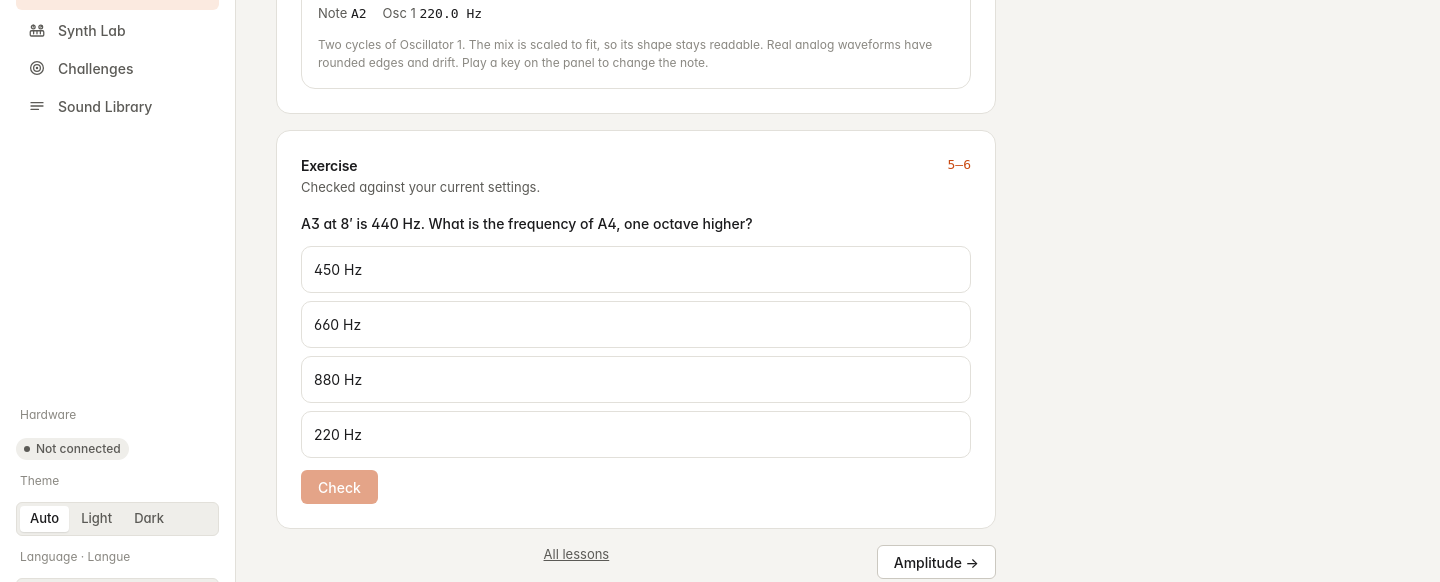
Test case: lesson player › gives per-option feedback on multiple choice
(page scrolled)
Step 1. Click the radio button labelled "660 Hz" → (338, 325), box [301,301,971,348]
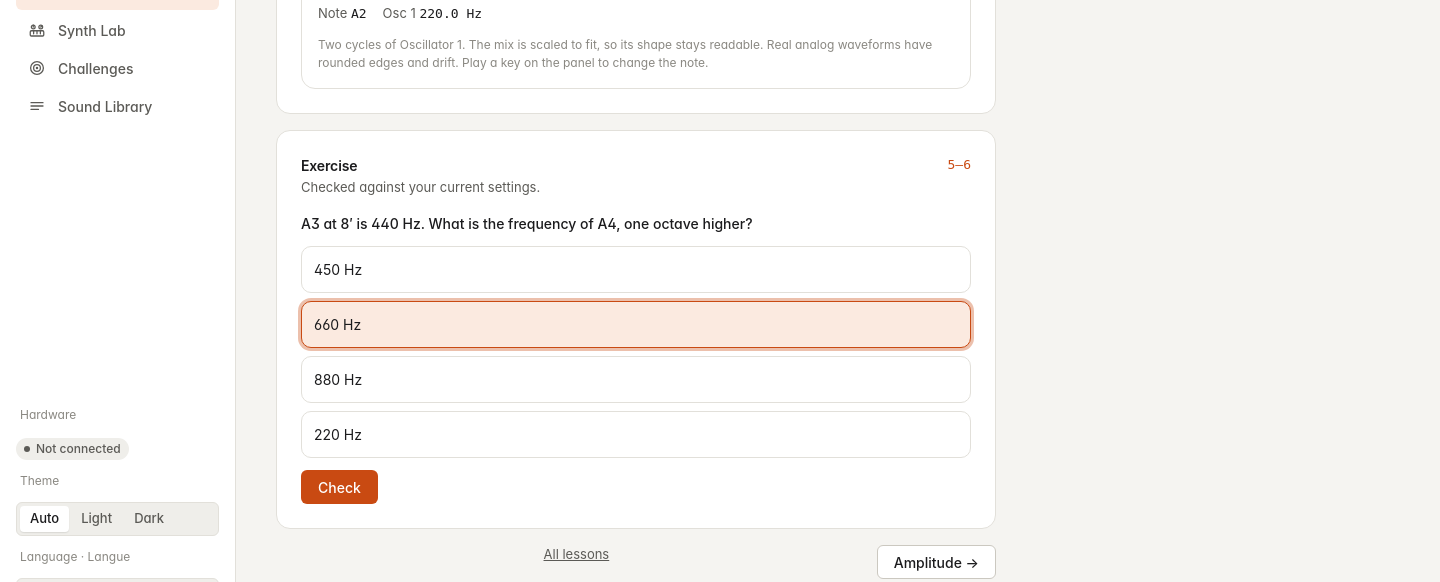
Step 2. Click the button "Check" → (339, 487), box [301,470,378,504]
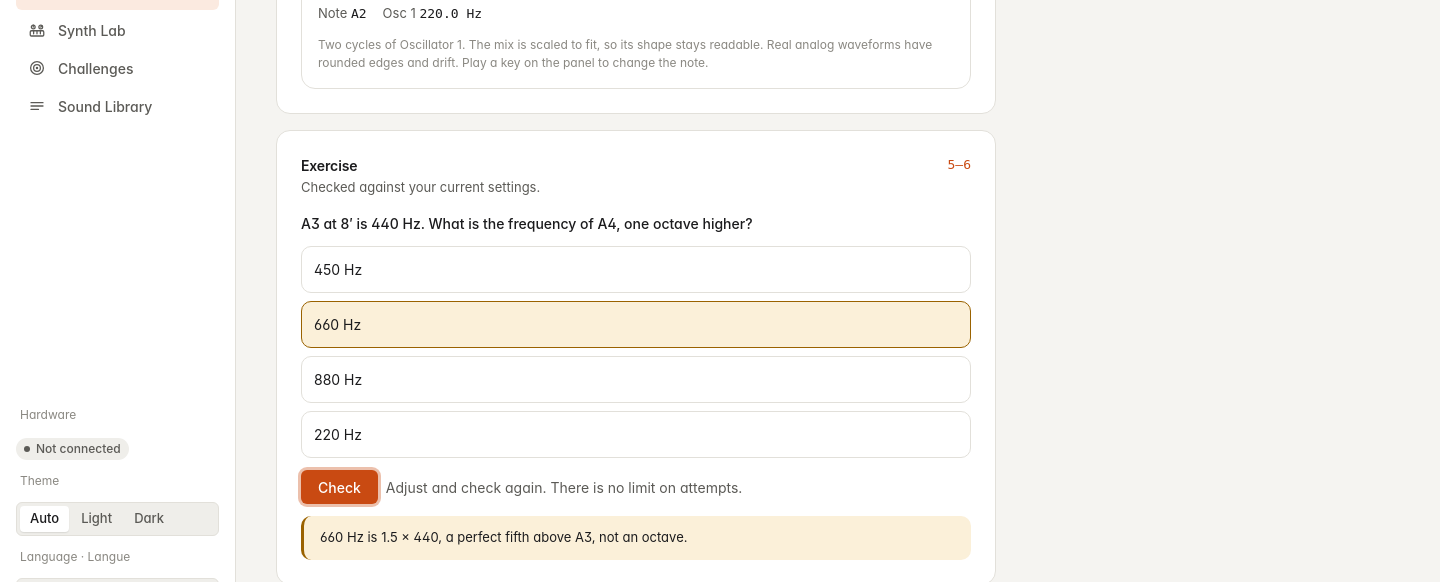
expect the message named "Exercise feedback" shows "perfect fifth": met, box [320,529,688,545]
Step 3. Click the radio button labelled "880 Hz" → (338, 380), box [301,356,971,403]
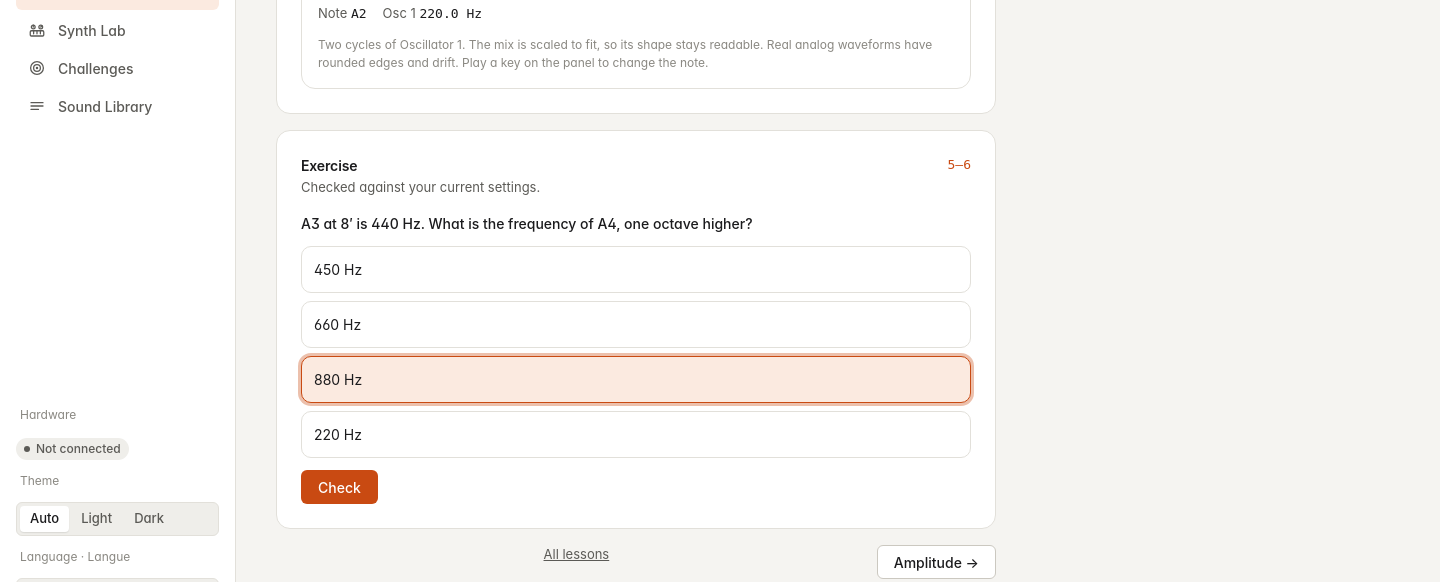
Step 4. Click the button "Check" → (339, 487), box [301,470,378,504]
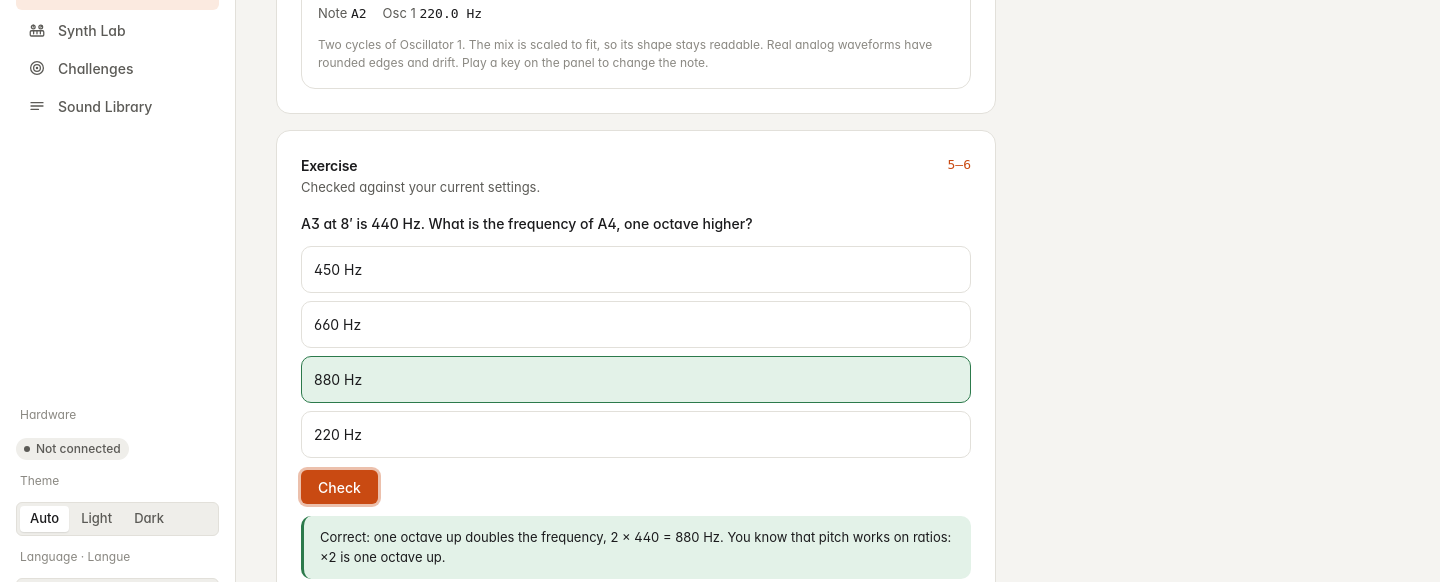
expect the message named "Exercise feedback" shows "Correct": met, box [320,529,951,565]
